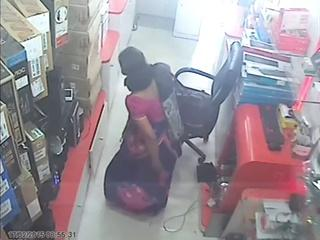Normal: (104, 48, 184, 216)
